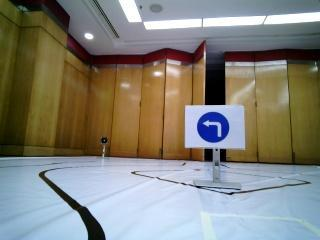left: (186, 105, 246, 147)
